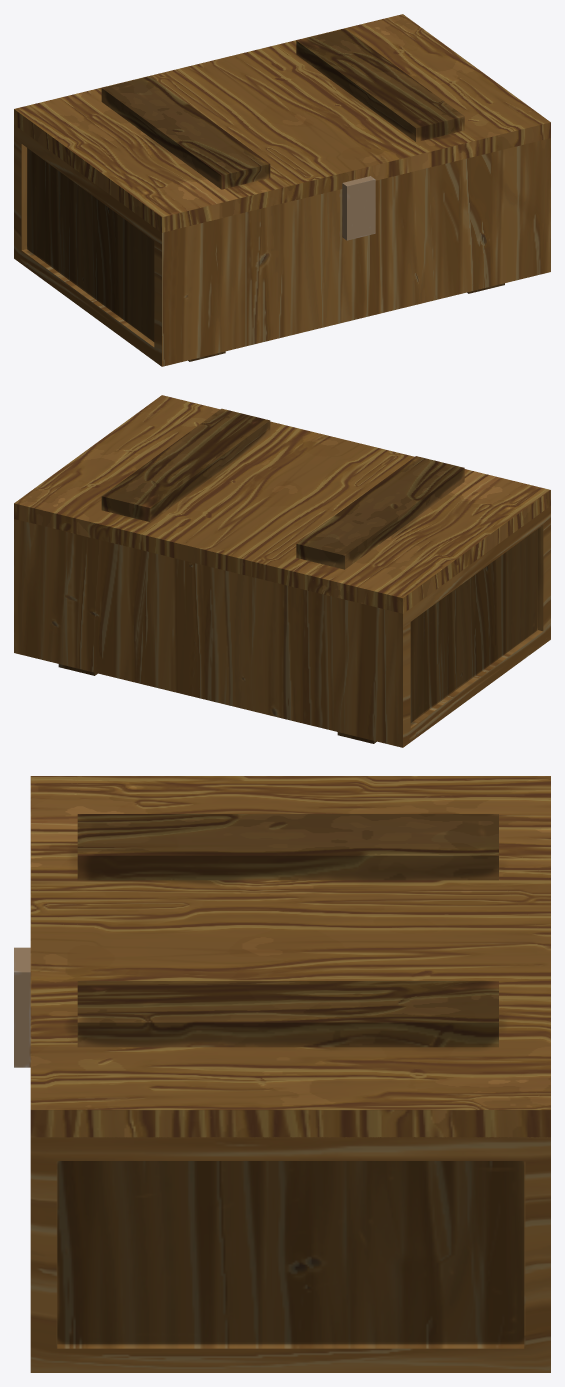
Rendered from Crate.fbx.
3 renders of one model, top to bottom at view 1: azimuth 30°, elevation 25°; view 2: azimuth 150°, elevation 25°; view 3: azimuth 270°, elevation 25°, orthographic. The views are drawn at different scales.
Parts seen in each view (by area): view 1: Crate_geo, Crate_cover_geo; view 2: Crate_geo, Crate_cover_geo; view 3: Crate_cover_geo, Crate_geo.
Part boxes in pixels (bbox=[...]): Crate_geo: bbox=[14, 125, 550, 366]; Crate_cover_geo: bbox=[14, 14, 550, 232]; Crate_geo: bbox=[14, 506, 550, 747]; Crate_cover_geo: bbox=[14, 395, 550, 613]; Crate_cover_geo: bbox=[30, 776, 550, 1137]; Crate_geo: bbox=[14, 947, 550, 1372].
Bounding box in the file's own units: 65.17 × 27.97 × 44.33.
